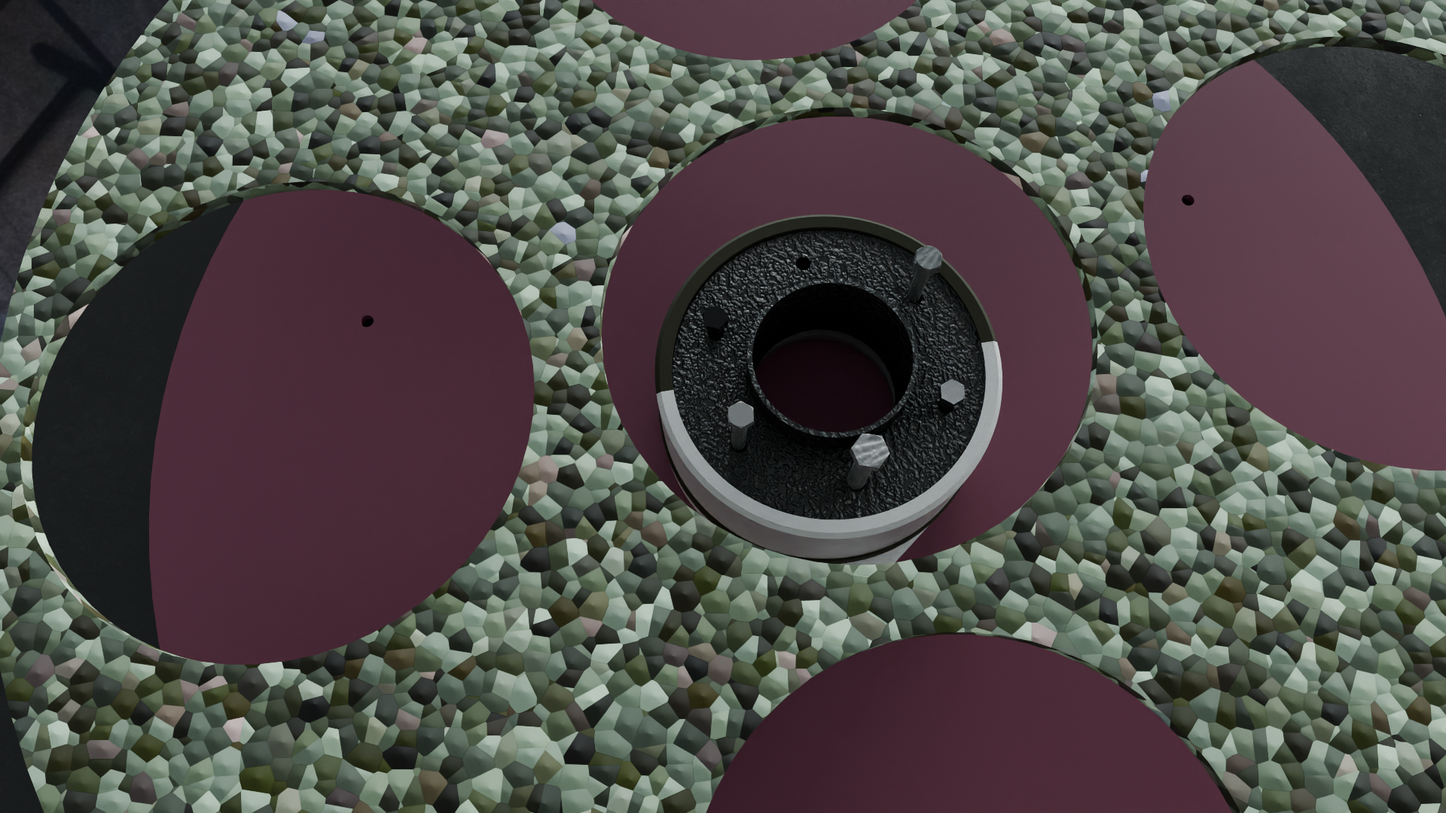bolt: (851, 434, 889, 468), (915, 246, 942, 272), (728, 401, 754, 428), (941, 379, 965, 404), (703, 306, 728, 329)
